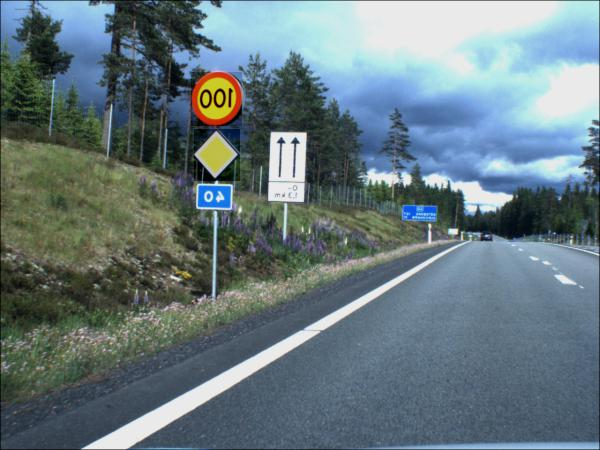100_SIGN: (191, 73, 243, 128)
PRIORITY_ROAD: (194, 130, 241, 183)
